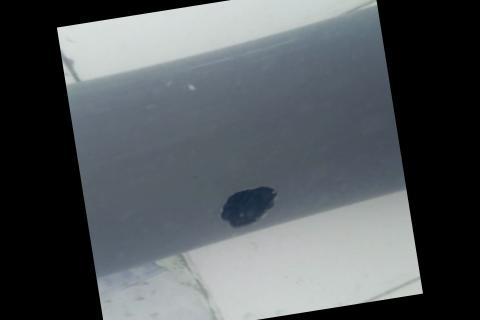kebocoran: (213, 180, 282, 230)
